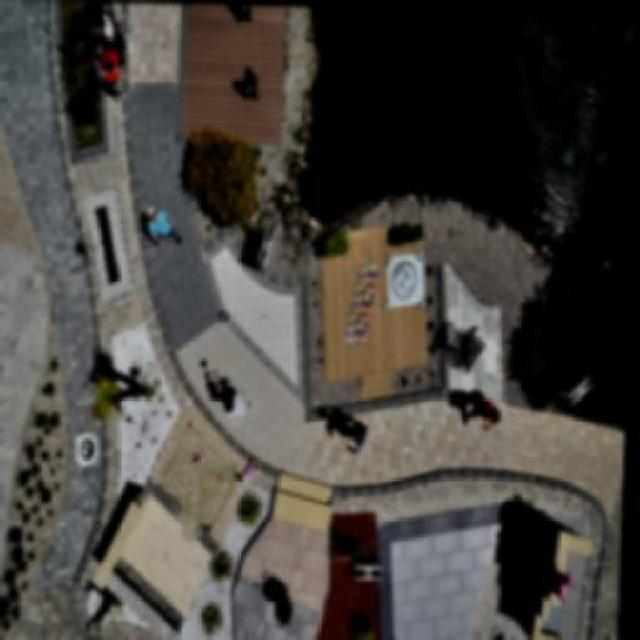Person: (140, 202, 194, 258), (458, 387, 520, 431), (342, 404, 382, 456), (232, 384, 260, 425)
